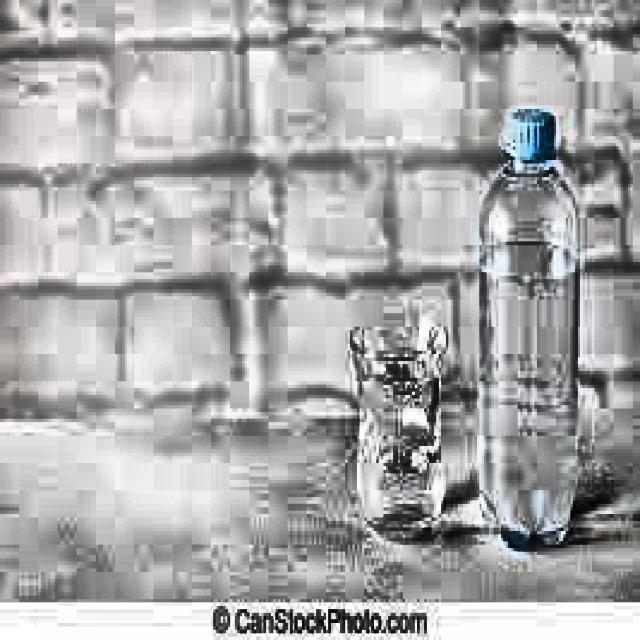plastic bottle: (480, 108, 576, 546)
